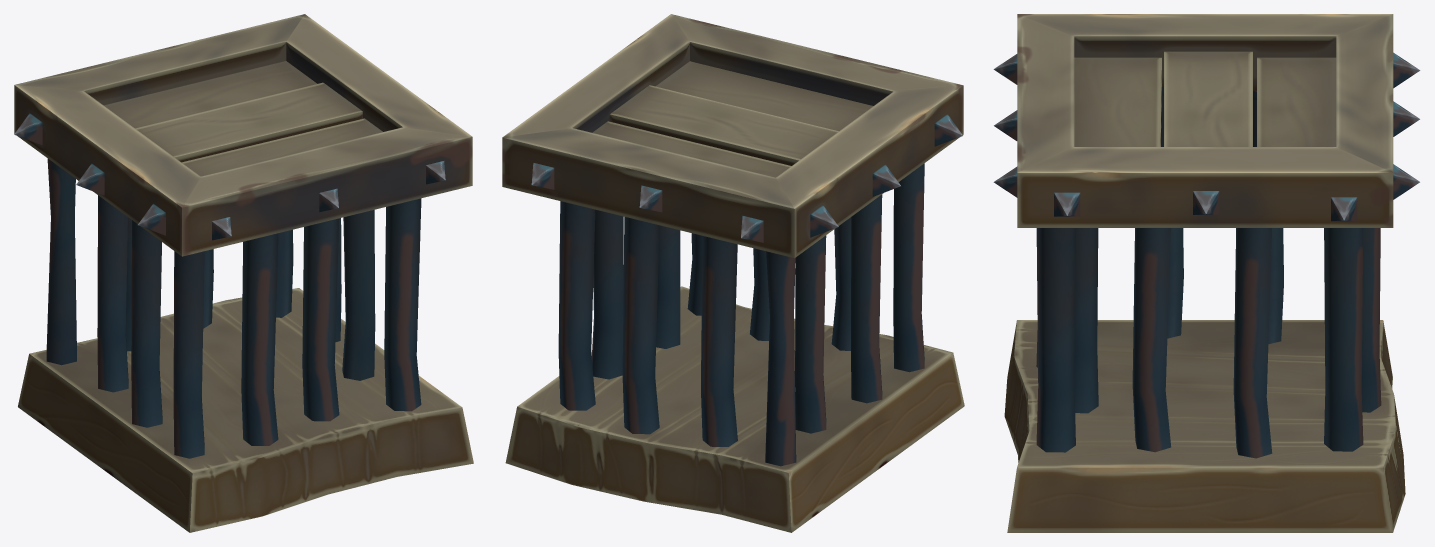
The model's file is SM_Cage_02.fbx.
3 views of the same model, side by side, from view 1: azimuth 30°, elevation 25°; view 2: azimuth 150°, elevation 25°; view 3: azimuth 270°, elevation 25° (orthographic). The views are drawn at different scales.
Parts seen in each view (by area): view 1: SM_Cage_02_LOD0; view 2: SM_Cage_02_LOD0; view 3: SM_Cage_02_LOD0.
Part boxes in pixels (x1,y1,x2,y2): SM_Cage_02_LOD0: (14, 14, 473, 532); SM_Cage_02_LOD0: (502, 14, 964, 532); SM_Cage_02_LOD0: (993, 14, 1420, 532).
Size of the model in its own units: 56.99 by 56.43 by 53.02.
1 material, 1 textured.
